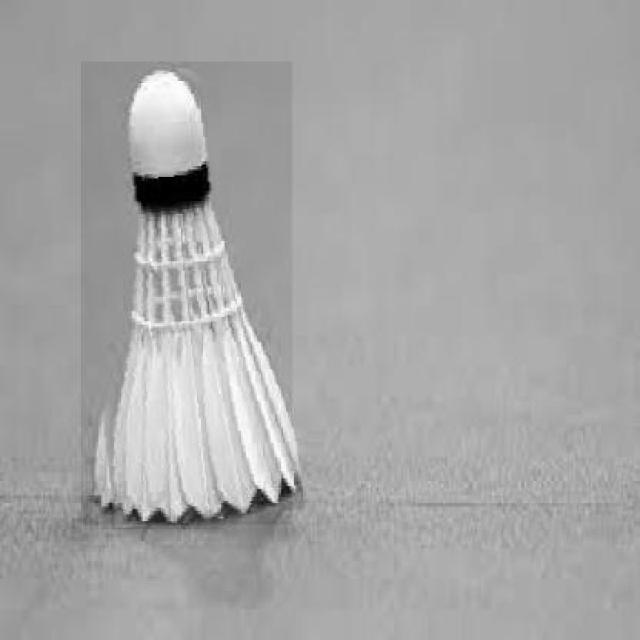Shuttlecock: (80, 62, 292, 524)
